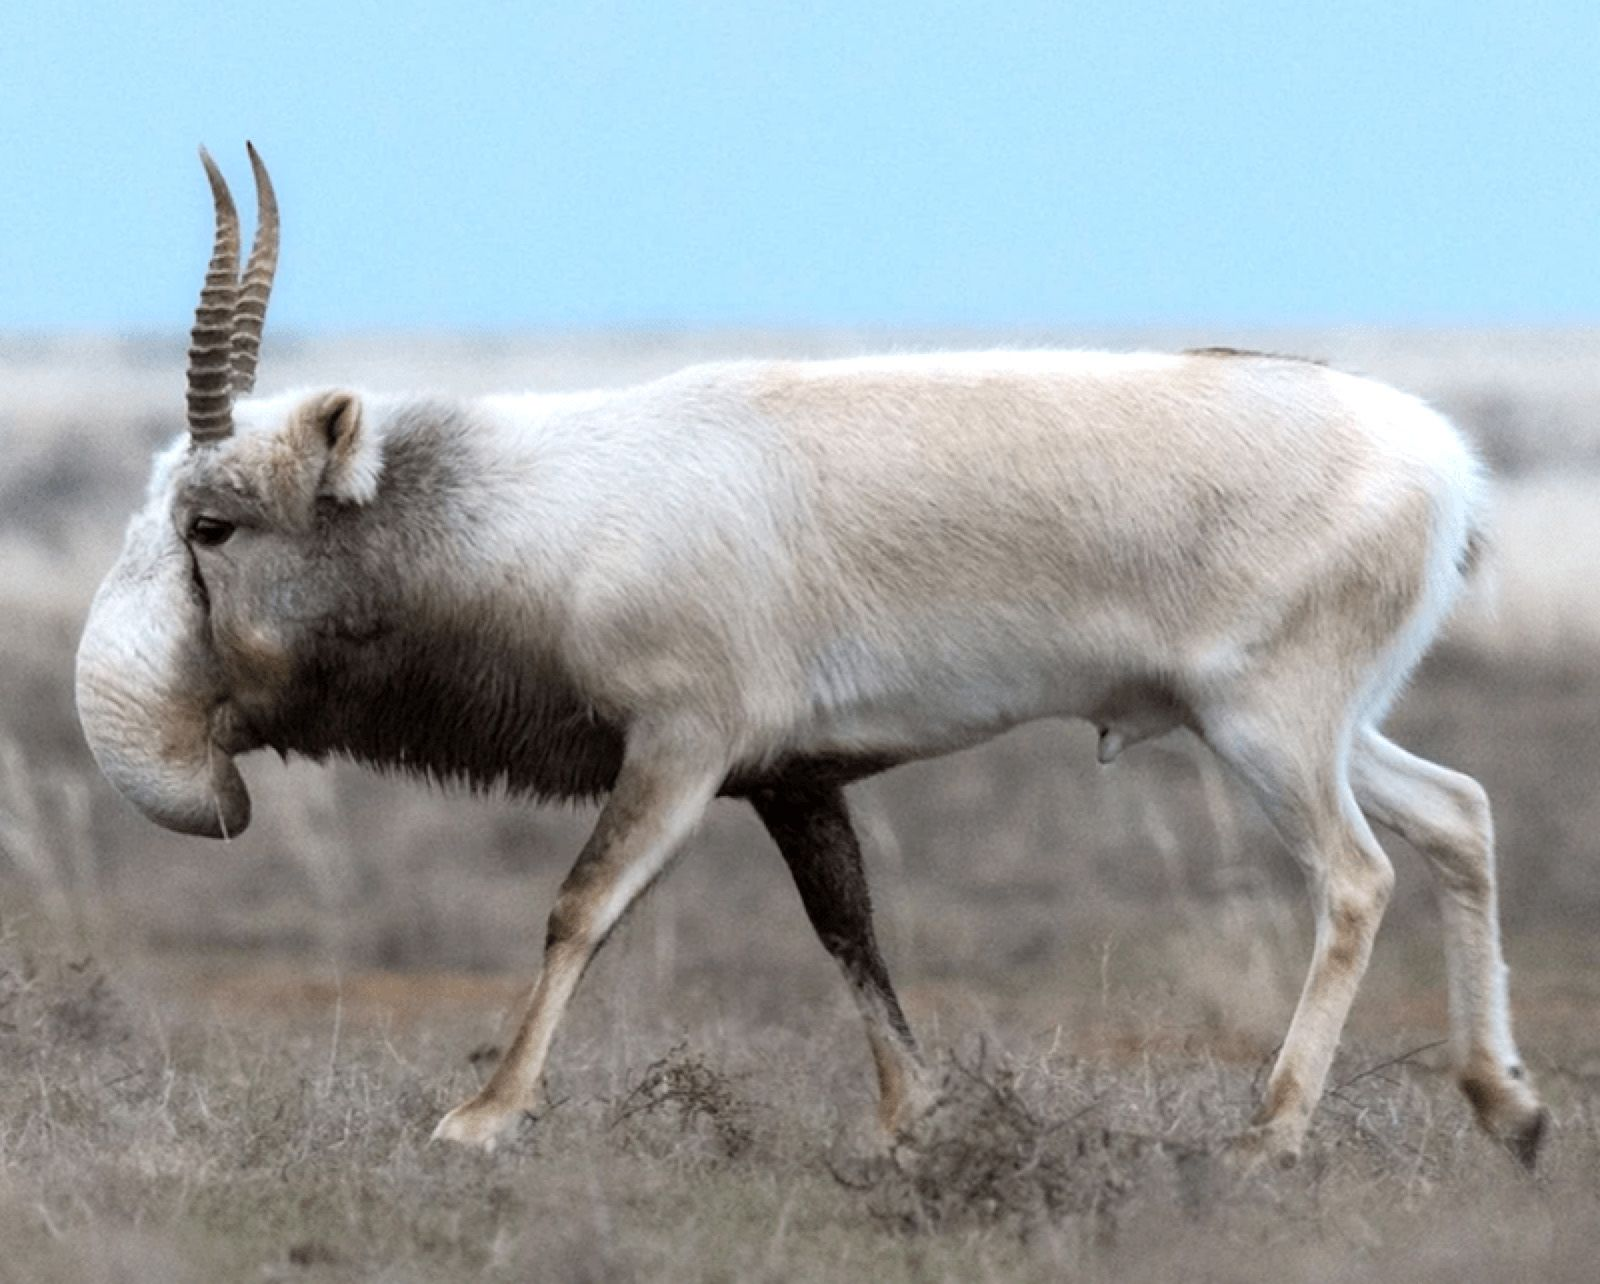saiga: (69, 140, 1558, 1199)
